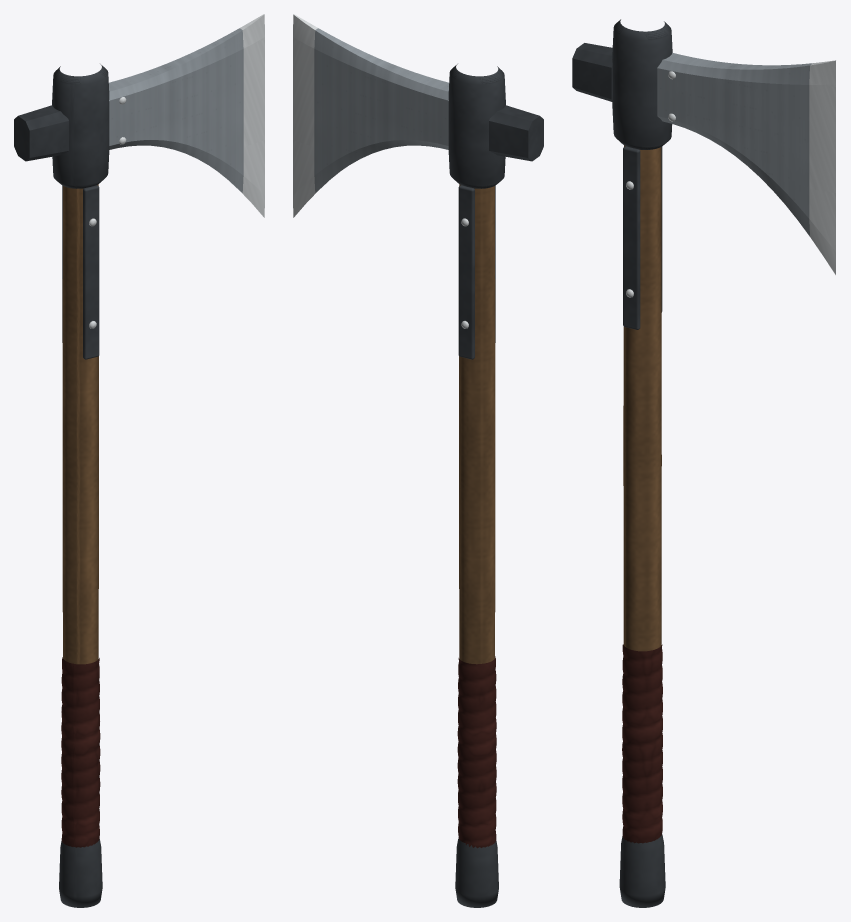
File: war-axe.glb
3 views of the same model, side by side, from view 1: azimuth 30°, elevation 25°; view 2: azimuth 150°, elevation 25°; view 3: azimuth 330°, elevation 25° (orthographic). The views are drawn at different scales.
Parts seen in each view (by area): view 1: wood / oiled hardwood, darksteel / oil-blackened fittings, steel / forged blade steel, leather / oiled leather wrap, edge / honed bright bevel; view 2: wood / oiled hardwood, darksteel / oil-blackened fittings, steel / forged blade steel, leather / oiled leather wrap, edge / honed bright bevel; view 3: wood / oiled hardwood, steel / forged blade steel, darksteel / oil-blackened fittings, leather / oiled leather wrap, edge / honed bright bevel.
Part boxes in pixels (box(x1,y1,x2,y2)): wood / oiled hardwood: box(62, 184, 98, 664); darksteel / oil-blackened fittings: box(14, 64, 109, 907); steel / forged blade steel: box(108, 28, 243, 192); leather / oiled leather wrap: box(61, 657, 100, 847); edge / honed bright bevel: box(89, 14, 264, 328); wood / oiled hardwood: box(459, 184, 495, 664); darksteel / oil-blackened fittings: box(448, 64, 543, 907); steel / forged blade steel: box(314, 28, 449, 192); leather / oiled leather wrap: box(457, 656, 496, 848); edge / honed bright bevel: box(293, 14, 468, 328); wood / oiled hardwood: box(623, 145, 661, 651); steel / forged blade steel: box(657, 52, 812, 236); darksteel / oil-blackened fittings: box(572, 19, 672, 907); leather / oiled leather wrap: box(622, 644, 662, 843); edge / honed bright bevel: box(626, 60, 835, 297).
Size of the model in its own units: 0.2529 by 0.837 by 0.048.
Materials: 5 (5 with a texture image).
